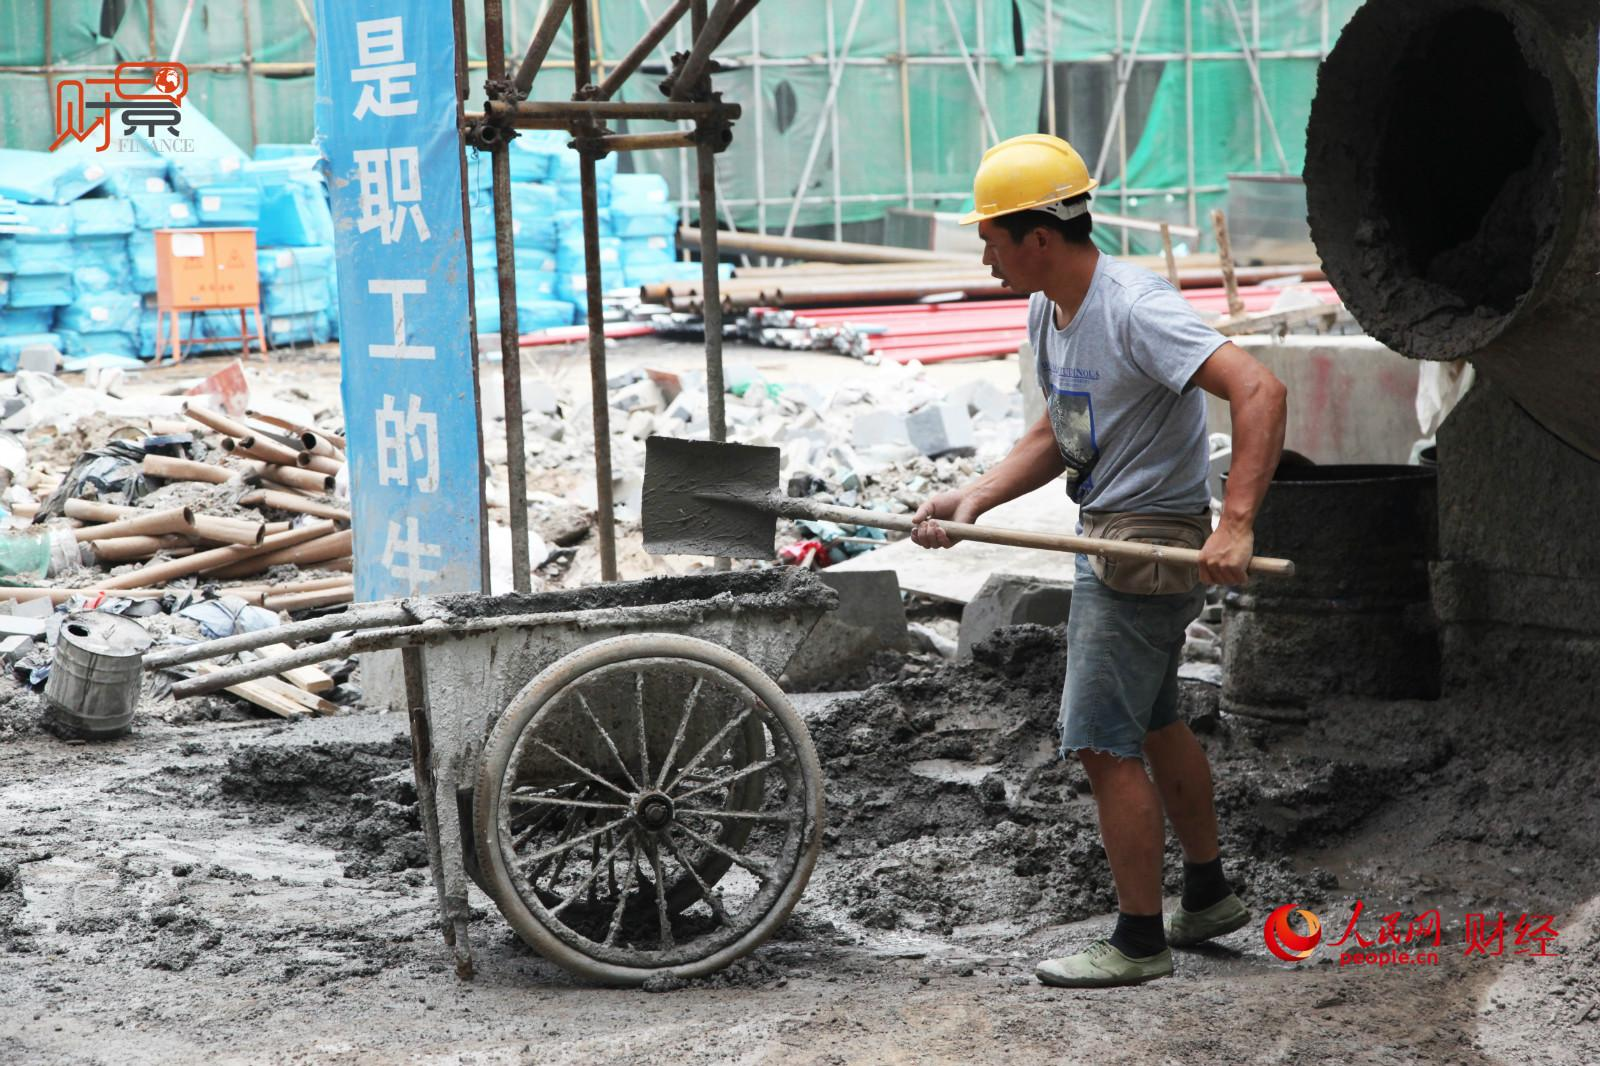helmet: (966, 128, 1096, 222)
